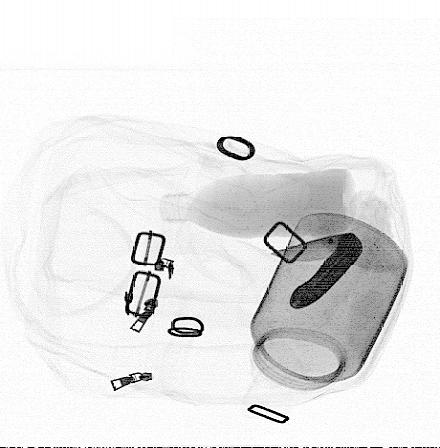Knife: (269, 231, 364, 312)
